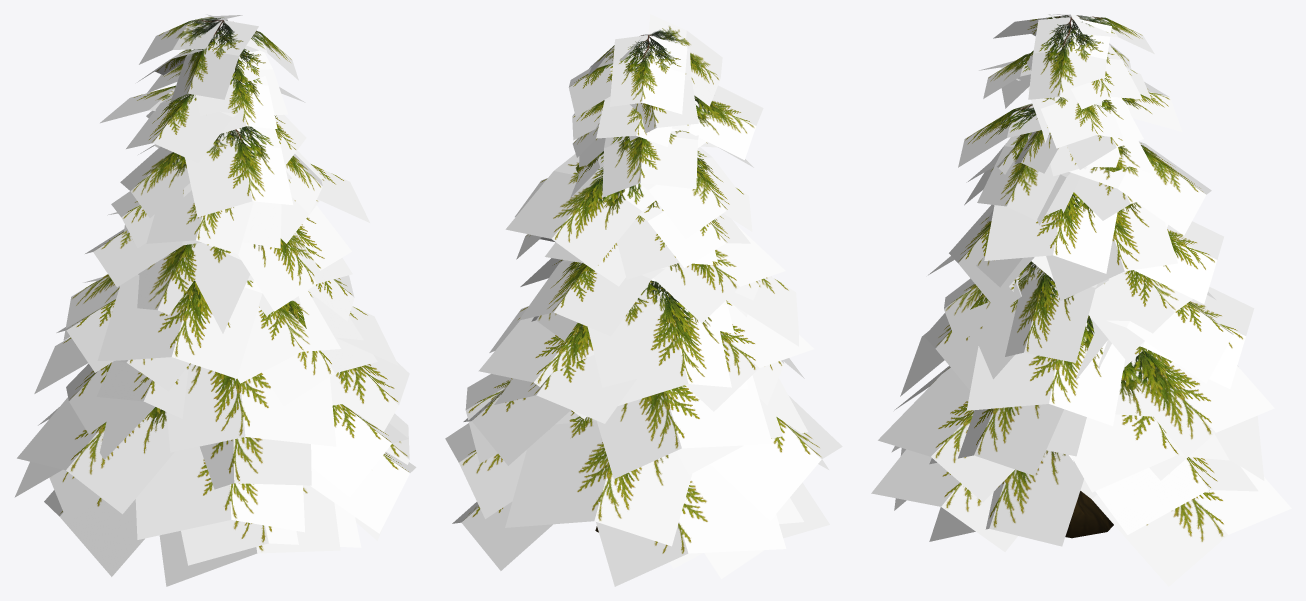
The model's file is ourTree.fbx.
The picture shows the model from 3 angles, left to right: view 1: azimuth 30°, elevation 25°; view 2: azimuth 150°, elevation 25°; view 3: azimuth 270°, elevation 25°; orthographic projection. The views are drawn at different scales.
Parts seen in each view (by area): view 1: Cylinder.004; view 2: Cylinder.004; view 3: Cylinder.004.
Part boxes in pixels (x1,y1,x2,y2): Cylinder.004: (14,14,416,586); Cylinder.004: (445,14,842,586); Cylinder.004: (871,14,1291,586).
Size of the model in its own units: 1615 by 2213 by 1661.
Materials: 2 (2 with a texture image).
